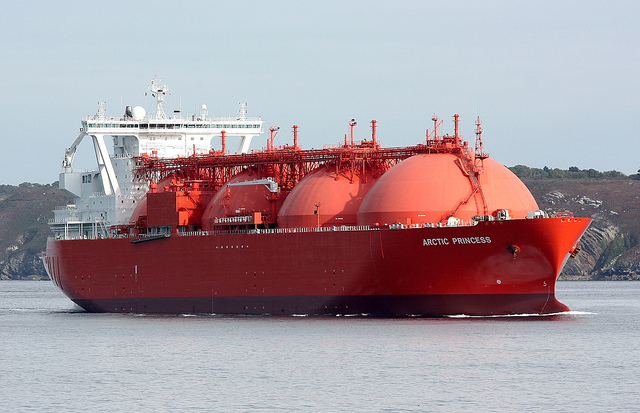LNG_ship: (46, 79, 585, 312)
